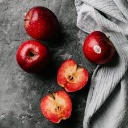apple: (16, 40, 49, 73)
